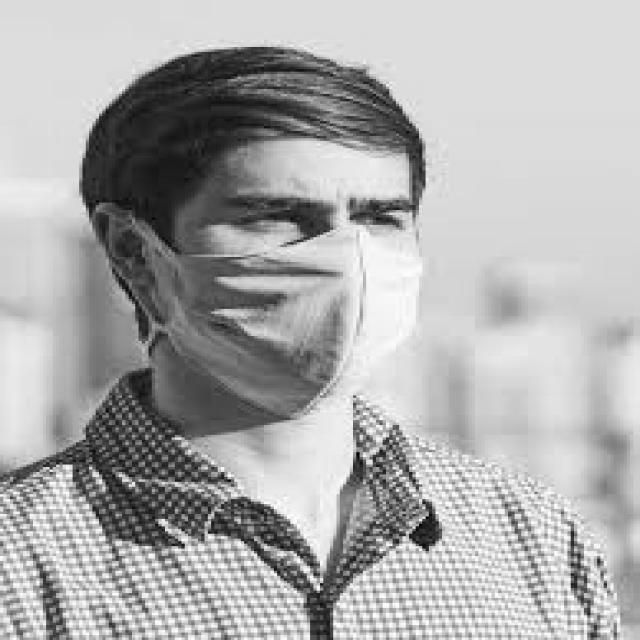fake: (106, 208, 432, 424)
real: (173, 143, 427, 423)
